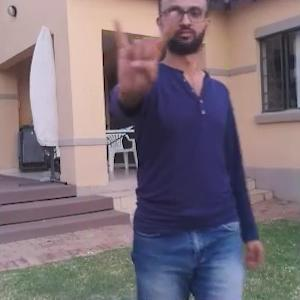takeoff-hand: (109, 10, 184, 94)
